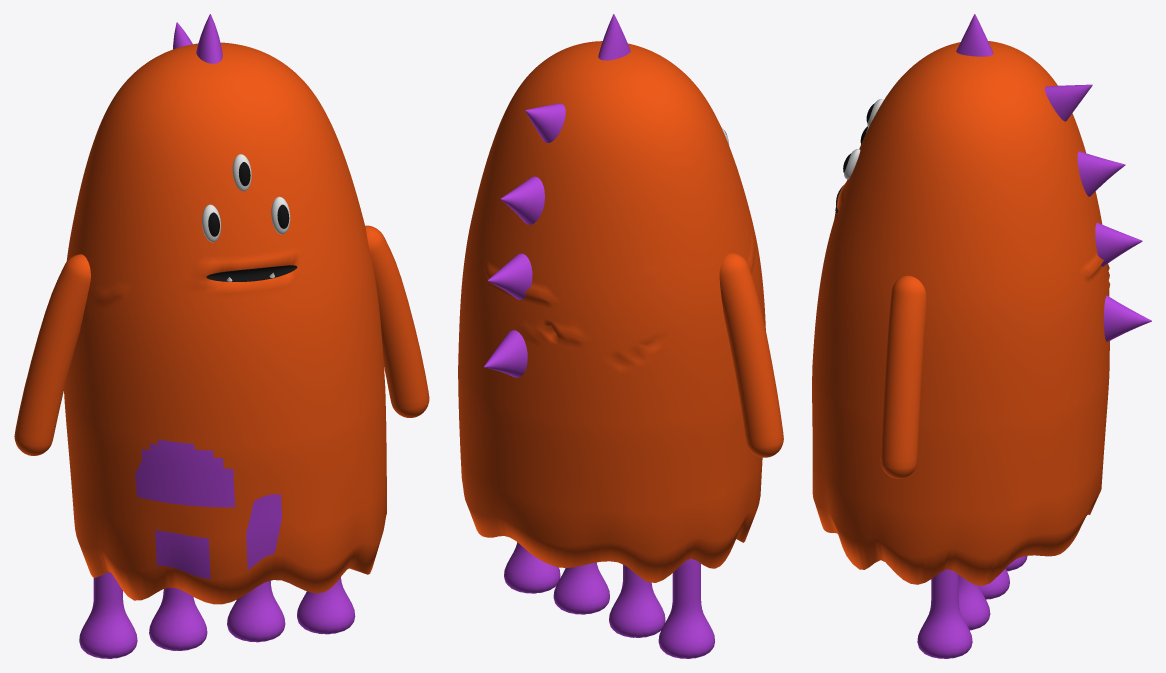
Rendered from Personagem_MENNY_Transformado_SEM_TURBO.FBX.
3 views of the same model, side by side, from view 1: azimuth 30°, elevation 25°; view 2: azimuth 150°, elevation 25°; view 3: azimuth 270°, elevation 25° (orthographic). The views are drawn at different scales.
Visible parts, largest first — view 1: menny, braços, PES, boca, Cone001; view 2: menny, PES, braços, Cone005, Cone003, Cone004, Cone002, Cone001; view 3: menny, braços, PES, Cone003, Cone005, Cone004, Cone002, Cone001.
Boxes of the visible parts, <box> form: menny: <box>64,42,386,604</box>; braços: <box>14,225,429,455</box>; PES: <box>79,572,355,658</box>; boca: <box>206,265,297,281</box>; Cone001: <box>196,14,222,63</box>; menny: <box>458,41,765,582</box>; PES: <box>504,542,714,658</box>; braços: <box>719,252,783,457</box>; Cone005: <box>484,330,527,377</box>; Cone003: <box>500,176,544,224</box>; Cone004: <box>487,253,532,299</box>; Cone002: <box>525,103,565,143</box>; Cone001: <box>598,14,630,60</box>; menny: <box>812,41,1110,585</box>; braços: <box>880,275,926,478</box>; PES: <box>917,556,1027,658</box>; Cone003: <box>1077,151,1125,196</box>; Cone005: <box>1103,295,1151,341</box>; Cone004: <box>1095,222,1142,266</box>; Cone002: <box>1044,84,1092,121</box>; Cone001: <box>956,14,993,56</box>.
Size of the model in its own units: 34.81 by 58.02 by 30.14.
